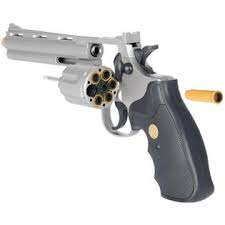gun: (2, 23, 215, 204)
